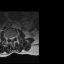CCS_normal: (11, 35, 12, 42)
LFS_normal: (14, 34, 15, 39)
LLS_normal: (12, 35, 14, 41)
RFS_normal: (7, 35, 9, 40)
RLS_normal: (9, 35, 11, 41)
